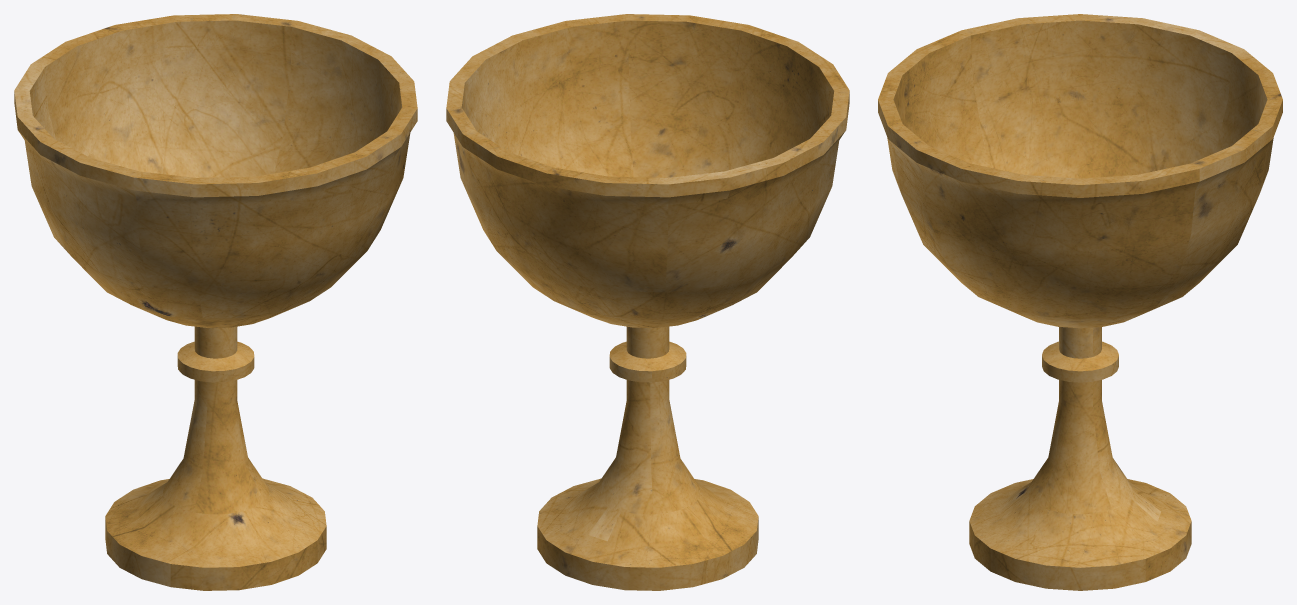
Rendered from Cup.fbx.
3 renders of one model, left to right at view 1: azimuth 30°, elevation 25°; view 2: azimuth 150°, elevation 25°; view 3: azimuth 270°, elevation 25°, orthographic.
Visible parts, largest first — view 1: Cup_LOD0; view 2: Cup_LOD0; view 3: Cup_LOD0.
Part boxes in pixels (box(x1,y1,x2,y2)): Cup_LOD0: box(14, 14, 417, 590); Cup_LOD0: box(446, 14, 849, 590); Cup_LOD0: box(878, 14, 1282, 590).
Size of the model in its own units: 31.35 by 31.35 by 37.97.
1 material, 1 textured.
